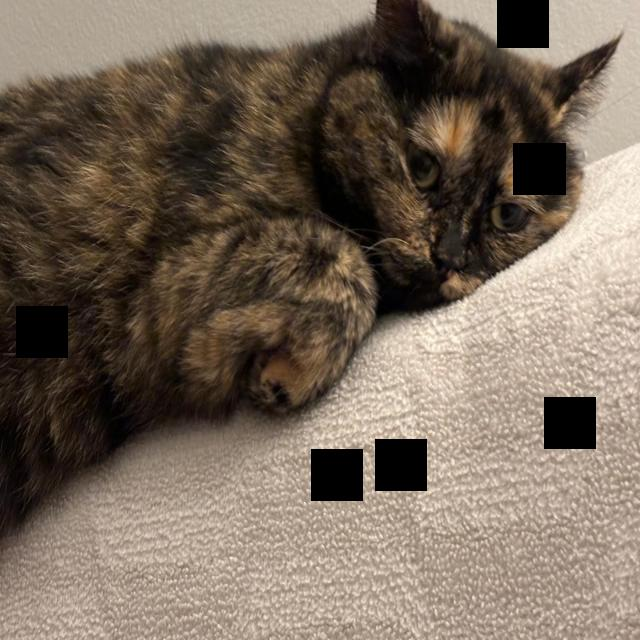authorized: (0, 0, 624, 542)
